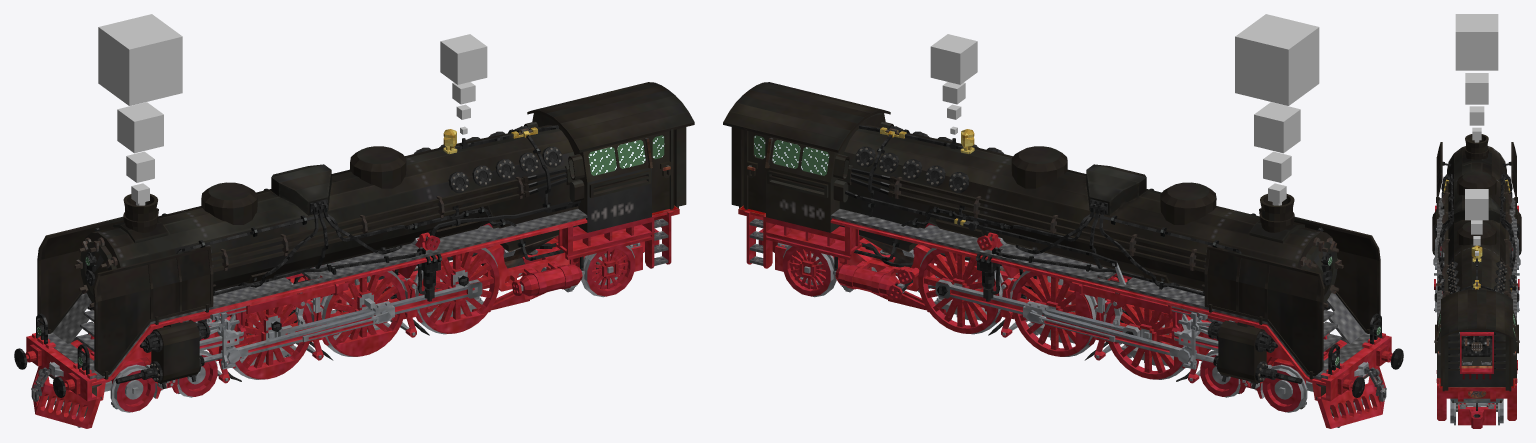
The picture shows the model from 3 angles, left to right: view 1: azimuth 30°, elevation 25°; view 2: azimuth 150°, elevation 25°; view 3: azimuth 270°, elevation 25°; orthographic projection. The views are drawn at different scales.
Parts seen in each view (by area): view 1: FRAME_Cube.11275_Untitled.005, CAB_Untitled.005, FIREBOX_Untitled.006, BOILER_SEGMENT_1_Untitled.001, PARTICLE_CHIMNEY_5_Cube.11484, BOILER_SEGMENT_2_Untitled, CAB.001_Untitled.004, SMOKEBOX_Untitled.003, BOILER_SEGMENT_3_Untitled.002, WHEEL_DRIVER_3_Cube.11284, WHEEL_DRIVER_2_Cube.11280, WHEEL_DRIVER_1_Cube.11281 (+10 smaller); view 2: FRAME_Cube.11275_Untitled.005, CAB_Untitled.005, FIREBOX_Untitled.006, BOILER_SEGMENT_1_Untitled.001, PARTICLE_CHIMNEY_5_Cube.11484, BOILER_SEGMENT_2_Untitled, SMOKEBOX_Untitled.003, BOILER_SEGMENT_3_Untitled.002, CAB.001_Untitled.004, WHEEL_DRIVER_3_Cube.11284, WHEEL_DRIVER_2_Cube.11280, WHEEL_DRIVER_1_Cube.11281 (+11 smaller); view 3: CAB_Untitled.005, FRAME_Cube.11275_Untitled.005, PARTICLE_CHIMNEY_5_Cube.11484, FIREBOX_Untitled.006, SMOKEBOX_Untitled.003, CAB.001_Untitled.004, BOILER_SEGMENT_3_Untitled.002, BOILER_SEGMENT_1_Untitled.001, BOGEY_REAR_Cube.11286, BOILER_SEGMENT_2_Untitled, PARTICLE_CHIMNEY_4_Cube.11483, PRESSURE_VALVE_4_Cube.11485 (+6 smaller).
Boxes of the visible parts, x1=… form: FRAME_Cube.11275_Untitled.005: x1=14, y1=168, x2=678, y2=428; CAB_Untitled.005: x1=527, y1=82, x2=694, y2=268; FIREBOX_Untitled.006: x1=405, y1=125, x2=578, y2=275; BOILER_SEGMENT_1_Untitled.001: x1=174, y1=182, x2=290, y2=291; PARTICLE_CHIMNEY_5_Cube.11484: x1=98, y1=14, x2=182, y2=105; BOILER_SEGMENT_2_Untitled: x1=259, y1=164, x2=366, y2=273; CAB.001_Untitled.004: x1=414, y1=121, x2=645, y2=239; SMOKEBOX_Untitled.003: x1=74, y1=194, x2=200, y2=310; BOILER_SEGMENT_3_Untitled.002: x1=335, y1=146, x2=429, y2=255; WHEEL_DRIVER_3_Cube.11284: x1=388, y1=247, x2=499, y2=334; WHEEL_DRIVER_2_Cube.11280: x1=297, y1=270, x2=405, y2=356; WHEEL_DRIVER_1_Cube.11281: x1=207, y1=303, x2=312, y2=379; FRAME_Cube.11275_Untitled.005: x1=739, y1=168, x2=1403, y2=428; CAB_Untitled.005: x1=723, y1=82, x2=890, y2=268; FIREBOX_Untitled.006: x1=839, y1=125, x2=1012, y2=274; BOILER_SEGMENT_1_Untitled.001: x1=1127, y1=182, x2=1243, y2=291; PARTICLE_CHIMNEY_5_Cube.11484: x1=1235, y1=14, x2=1319, y2=105; BOILER_SEGMENT_2_Untitled: x1=1051, y1=164, x2=1158, y2=273; SMOKEBOX_Untitled.003: x1=1217, y1=194, x2=1343, y2=310; BOILER_SEGMENT_3_Untitled.002: x1=988, y1=146, x2=1081, y2=255; CAB.001_Untitled.004: x1=772, y1=121, x2=1003, y2=216; WHEEL_DRIVER_3_Cube.11284: x1=918, y1=248, x2=1029, y2=334; WHEEL_DRIVER_2_Cube.11280: x1=1012, y1=270, x2=1120, y2=356; WHEEL_DRIVER_1_Cube.11281: x1=1105, y1=303, x2=1210, y2=379; CAB_Untitled.005: x1=1434, y1=289, x2=1519, y2=420; FRAME_Cube.11275_Untitled.005: x1=1432, y1=142, x2=1521, y2=406; PARTICLE_CHIMNEY_5_Cube.11484: x1=1455, y1=14, x2=1498, y2=70; FIREBOX_Untitled.006: x1=1448, y1=246, x2=1505, y2=365; SMOKEBOX_Untitled.003: x1=1447, y1=134, x2=1506, y2=189; CAB.001_Untitled.004: x1=1438, y1=258, x2=1515, y2=365; BOILER_SEGMENT_3_Untitled.002: x1=1448, y1=221, x2=1505, y2=264; BOILER_SEGMENT_1_Untitled.001: x1=1448, y1=171, x2=1505, y2=217; BOGEY_REAR_Cube.11286: x1=1456, y1=403, x2=1497, y2=428; BOILER_SEGMENT_2_Untitled: x1=1448, y1=197, x2=1505, y2=243; PARTICLE_CHIMNEY_4_Cube.11483: x1=1465, y1=73, x2=1488, y2=104; PRESSURE_VALVE_4_Cube.11485: x1=1465, y1=189, x2=1488, y2=220.
Bounding box in the file's own units: 16.56 × 9.01 × 2.94.
Materials: 30 (29 with a texture image).
